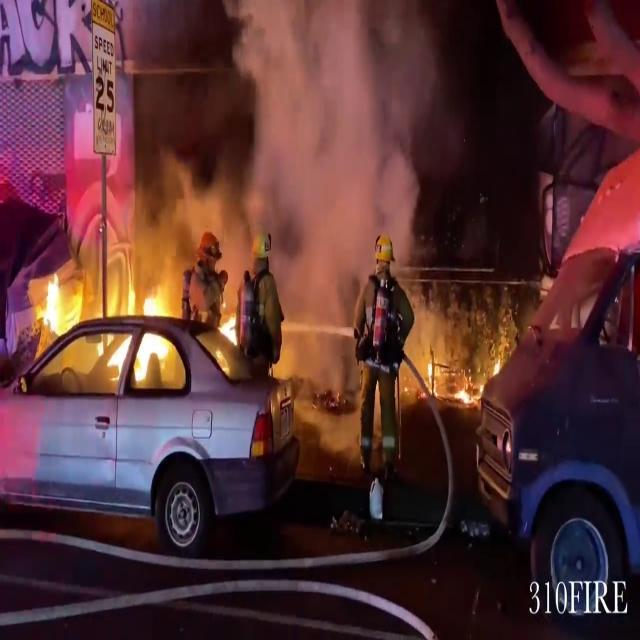Fire: (28, 261, 184, 372), (215, 298, 243, 362)
Smoke: (118, 0, 452, 322)
